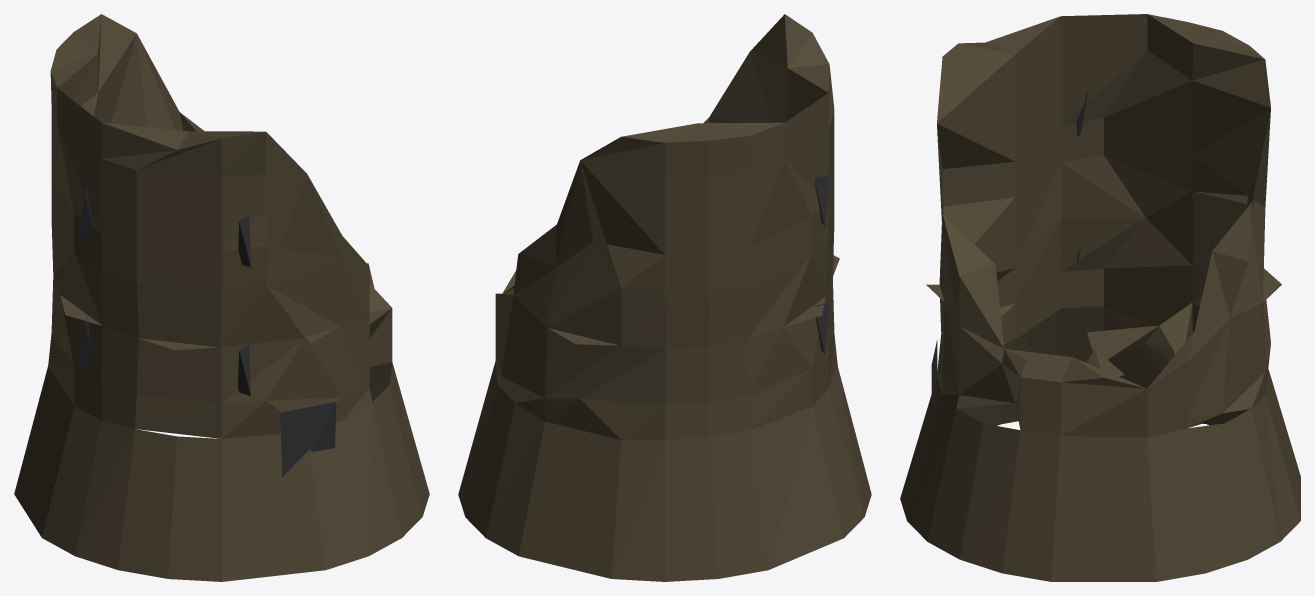
Rendered from castle-tower-ruined-lod1.glb.
3 renders of one model, left to right at view 1: azimuth 30°, elevation 25°; view 2: azimuth 150°, elevation 25°; view 3: azimuth 270°, elevation 25°, orthographic.
Bounding box in the file's own units: 8.63 × 10.08 × 8.63.
